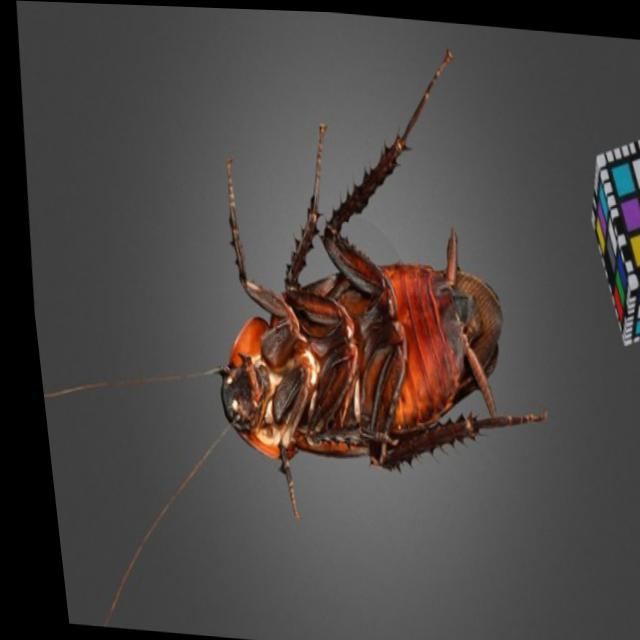Cockroach: (0, 0, 578, 640)
